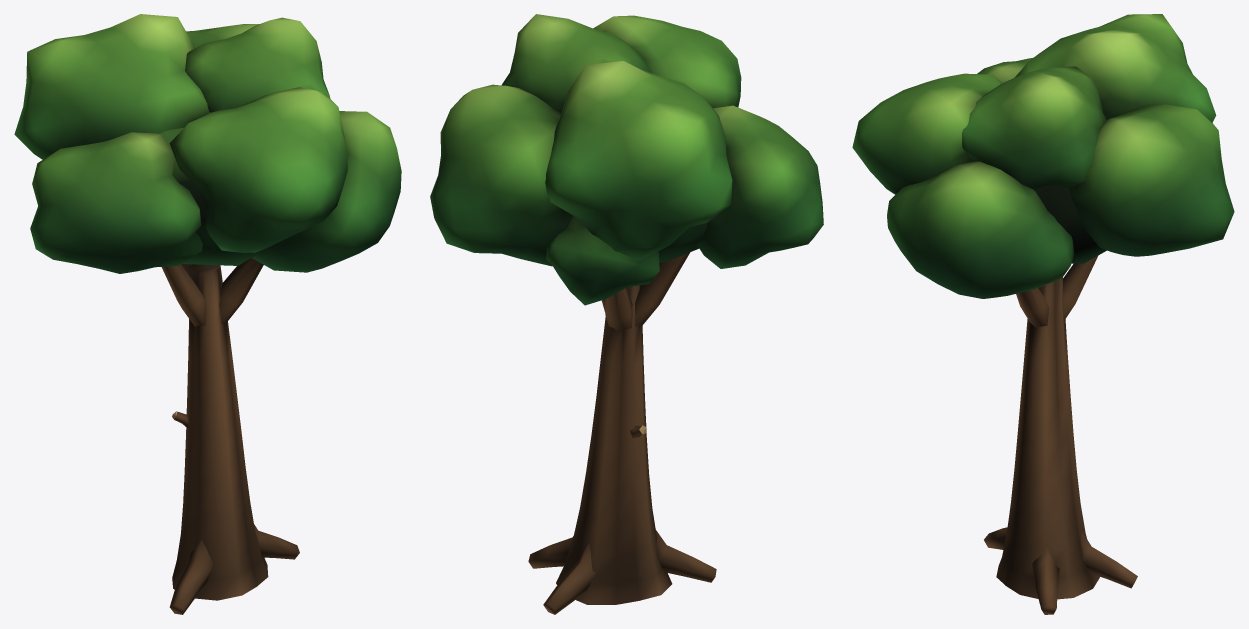
The model's file is tree-young-v3.glb.
The picture shows the model from 3 angles, left to right: view 1: azimuth 30°, elevation 25°; view 2: azimuth 150°, elevation 25°; view 3: azimuth 270°, elevation 25°; orthographic projection. The views are drawn at different scales.
Visible parts, largest first — view 1: 1_leaves, 0_trunk; view 2: 1_leaves, 0_trunk; view 3: 1_leaves, 0_trunk.
Boxes of the visible parts, x1,y1,x2,y2 form: 1_leaves: (14,14,401,273); 0_trunk: (161,258,299,614); 1_leaves: (430,14,823,305); 0_trunk: (528,252,716,614); 1_leaves: (852,14,1234,298); 0_trunk: (984,256,1137,614).
Bounding box in the file's own units: 2.03 × 3.15 × 2.07.
